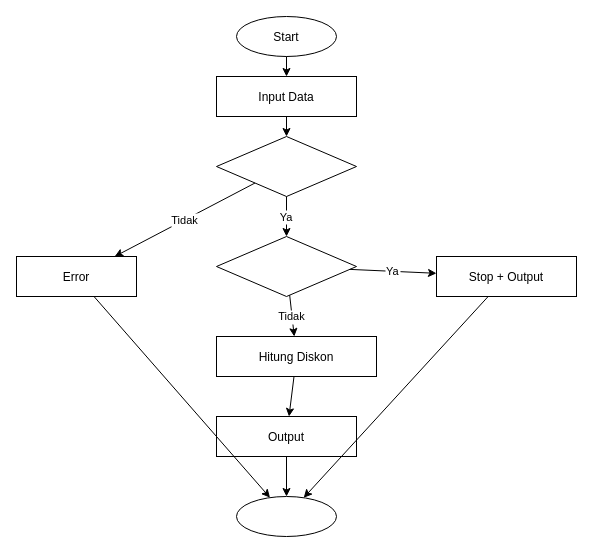
This 593x553 diagram has some shape labels left out. Each missing label, with the box of its shape:
End: (236, 496, 336, 536)
Tiket 1-5?: (216, 136, 356, 196)
Transaksi >5?: (216, 236, 356, 296)
